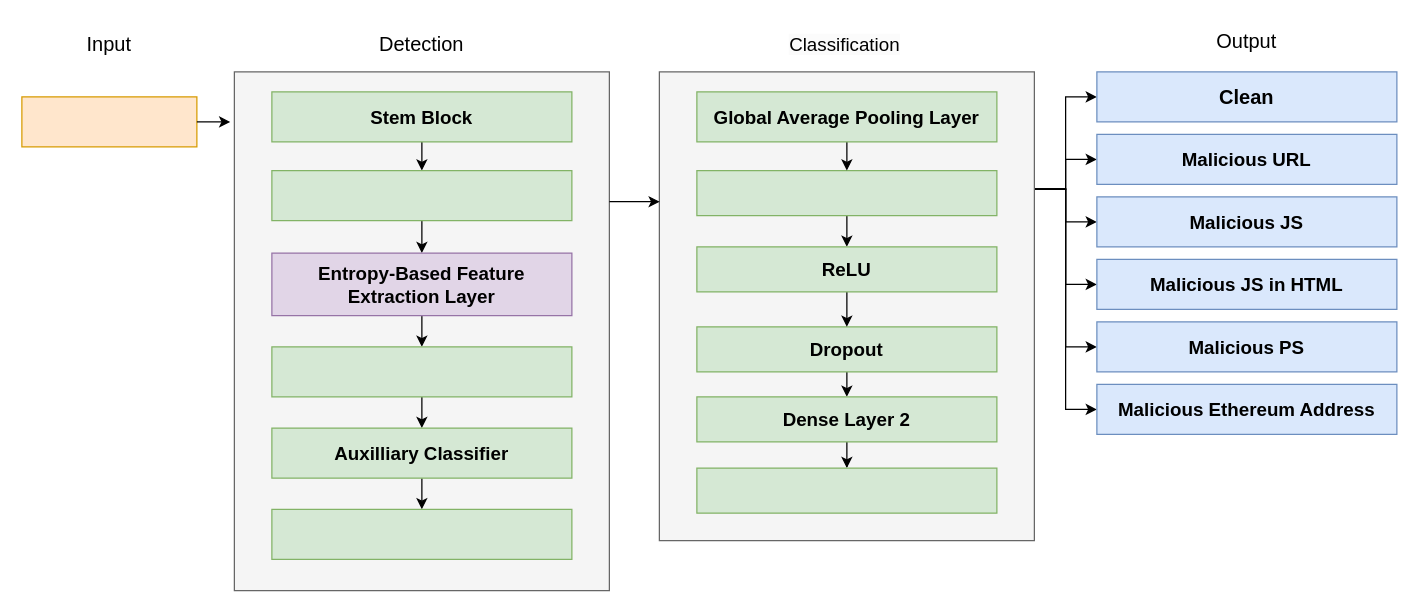
Image size: 1419x613. Some labels were removed from this diagram. The shapes that lost their labels are listed below. From the top down, each one's centre as x and y in pixels, then its label:
At pixel 109 121: "PNG Image".
At pixel 421 195: "Inception Module 1".
At pixel 846 192: "Dense Layer 1".
At pixel 421 371: "Inception Module 2".
At pixel 846 490: "Softmax".
At pixel 421 533: "Inception Module 3".
